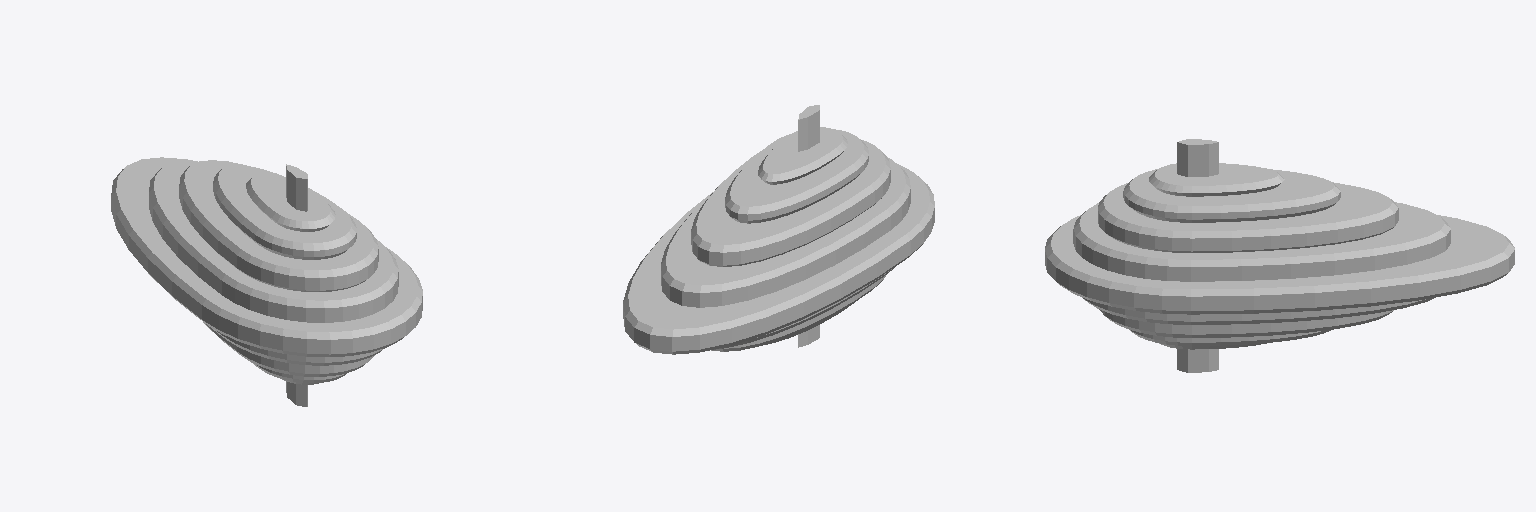
Rendered from melchior.obj.
3 views of the same model, side by side, from view 1: azimuth 30°, elevation 25°; view 2: azimuth 150°, elevation 25°; view 3: azimuth 270°, elevation 25° (orthographic).
Parts seen in each view (by area): view 1: Cylinder_Cylinder.001; view 2: Cylinder_Cylinder.001; view 3: Cylinder_Cylinder.001.
Boxes of the visible parts, box(x1,y1,x2,y2) form: Cylinder_Cylinder.001: box(111, 157, 422, 406); Cylinder_Cylinder.001: box(623, 105, 934, 354); Cylinder_Cylinder.001: box(1045, 139, 1514, 372).
Bounding box in the file's own units: 1.95 × 2.16 × 4.03.